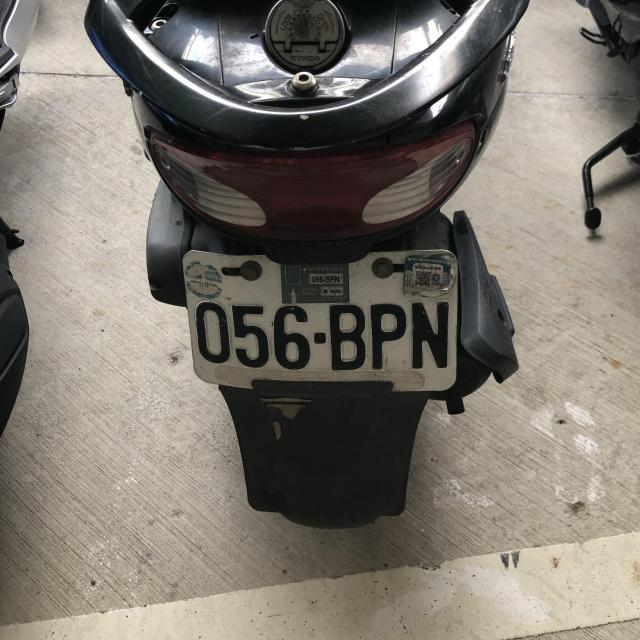W: (179, 244, 462, 394)
